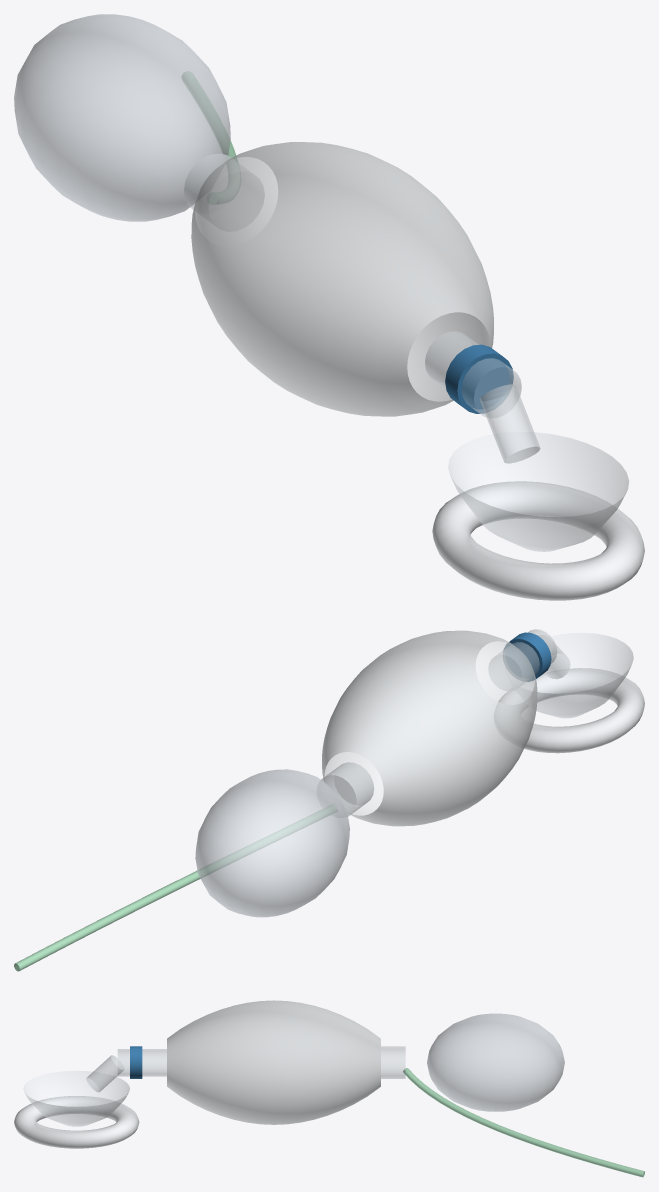
The model's file is bavu.glb.
3 views of the same model, one above another, from view 1: azimuth 30°, elevation 25°; view 2: azimuth 150°, elevation 25°; view 3: azimuth 270°, elevation 25° (orthographic). The views are drawn at different scales.
Visible parts, largest first — view 1: Ballon, bavu, Masque; view 2: Ballon, bavu, Masque; view 3: Ballon, bavu, Masque.
Part boxes in pixels (left/top/right/bottom): Ballon: left=191, top=142, right=493, bottom=416; bavu: left=14, top=14, right=540, bottom=463; Masque: left=432, top=432, right=644, bottom=600; Ballon: left=322, top=630, right=537, bottom=826; bavu: left=14, top=629, right=570, bottom=971; Masque: left=498, top=633, right=644, bottom=753; Ballon: left=167, top=1000, right=380, bottom=1124; bavu: left=86, top=1013, right=644, bottom=1177; Masque: left=14, top=1071, right=139, bottom=1148.
Size of the model in its own units: 0.2297 by 0.167 by 0.7676.
